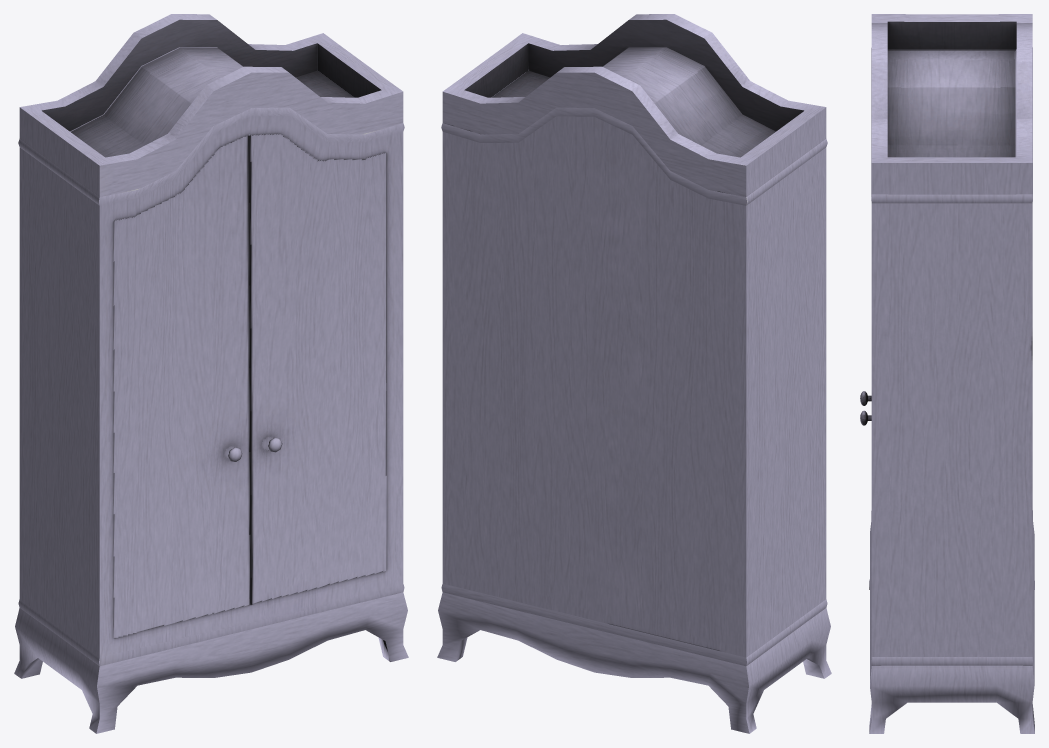
The model's file is Armario.FBX.
The picture shows the model from 3 angles, left to right: view 1: azimuth 30°, elevation 25°; view 2: azimuth 150°, elevation 25°; view 3: azimuth 270°, elevation 25°; orthographic projection.
Parts seen in each view (by area): view 1: Wardrobe; view 2: Wardrobe; view 3: Wardrobe.
Part boxes in pixels (<box>): Wardrobe: <box>14,14,408,733</box>; Wardrobe: <box>437,14,831,733</box>; Wardrobe: <box>860,14,1034,733</box>.
Size of the model in its own units: 195 by 372 by 94.19.
Materials: 1 (1 with a texture image).
